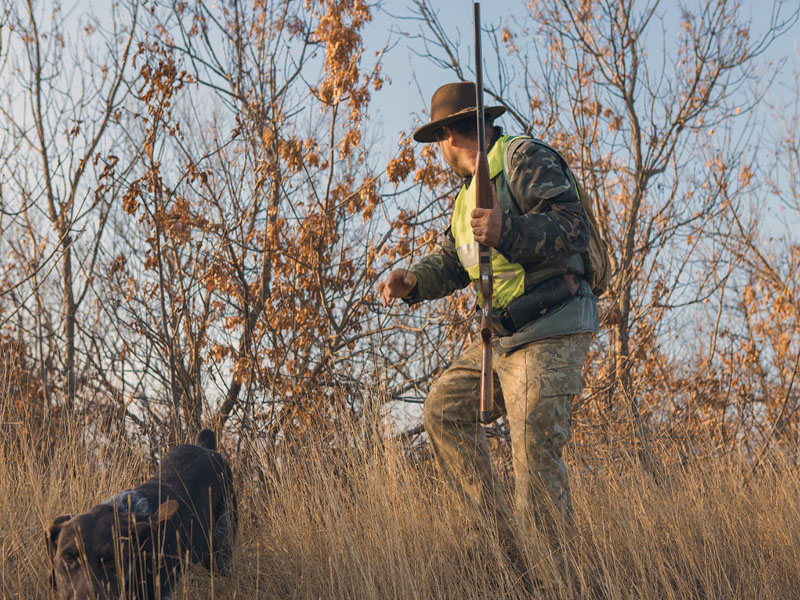cacciatore: (392, 19, 626, 548)
fucile: (40, 433, 242, 600), (459, 1, 506, 429)
